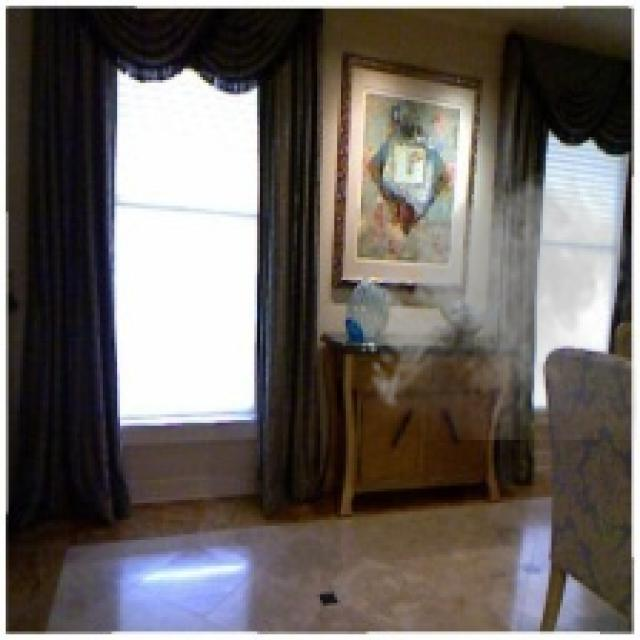smoke: (363, 163, 637, 440)
